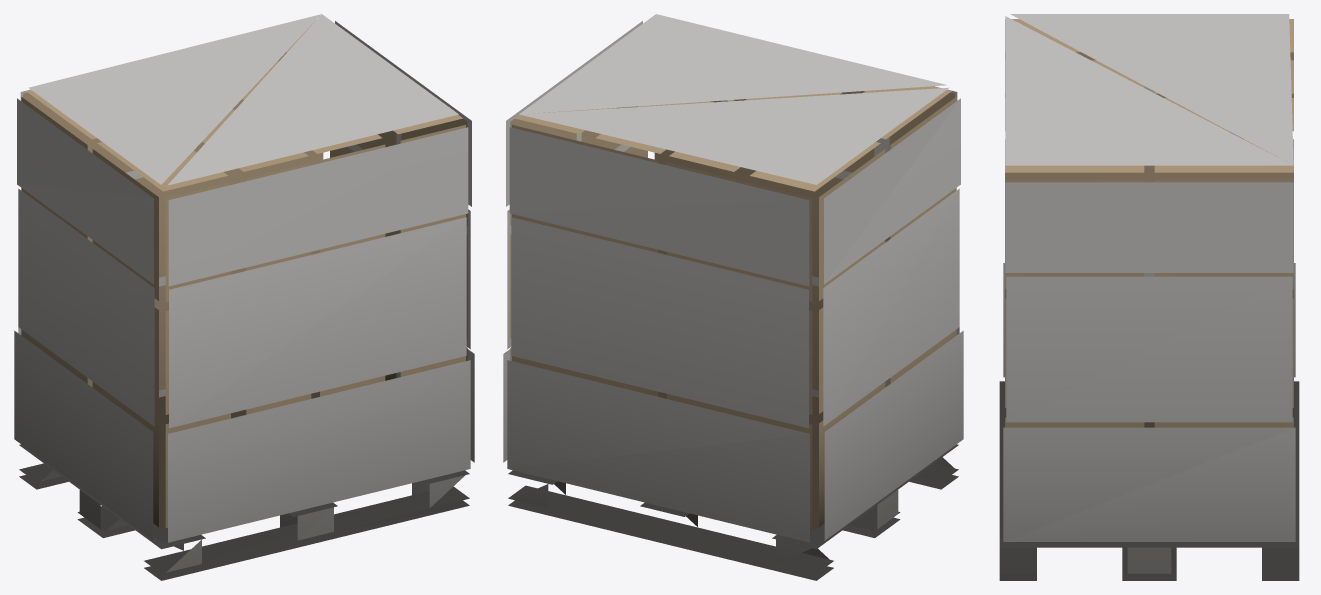
File: load.lod.glb
3 views of the same model, side by side, from view 1: azimuth 30°, elevation 25°; view 2: azimuth 150°, elevation 25°; view 3: azimuth 270°, elevation 25° (orthographic). The views are drawn at different scales.
Parts seen in each view (by area): view 1: load.001; view 2: load.001; view 3: load.001.
Boxes of the visible parts, x1,y1,x2,y2 form: load.001: (14, 14, 474, 580); load.001: (503, 14, 963, 580); load.001: (999, 14, 1299, 580).
Size of the model in its own units: 1.04 by 1.21 by 0.84.
